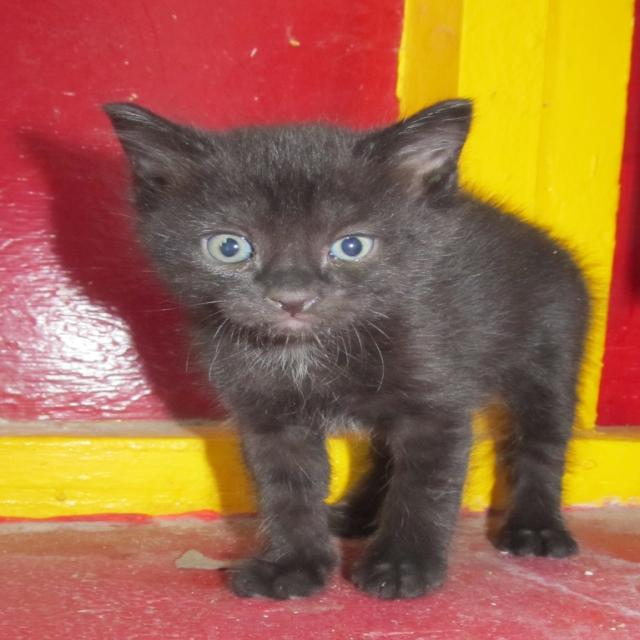Cat: (100, 93, 601, 599)
